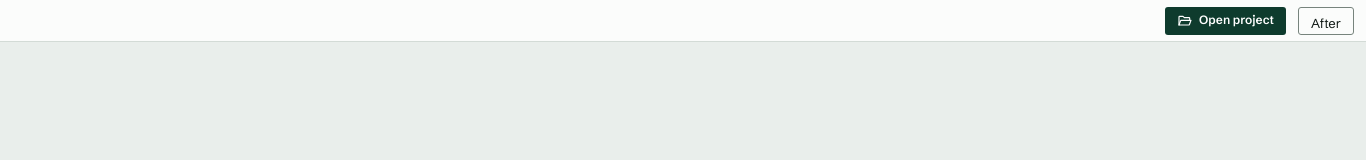
Test: ProjectMenu › with no project open, offers only opening, as the one primary button
What coordinates should you click on to do the following:
click the heading labelled "Open project"
I would click on:
 (1225, 20)
Its box is left=1165, top=6, right=1286, bottom=34.
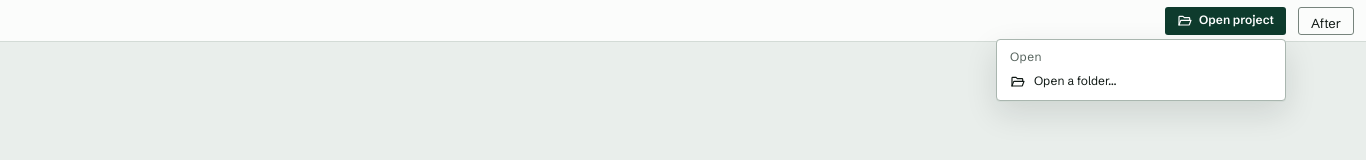
Expected: the button "Open a folder…" is shown, left=1001, top=67, right=1281, bottom=96
